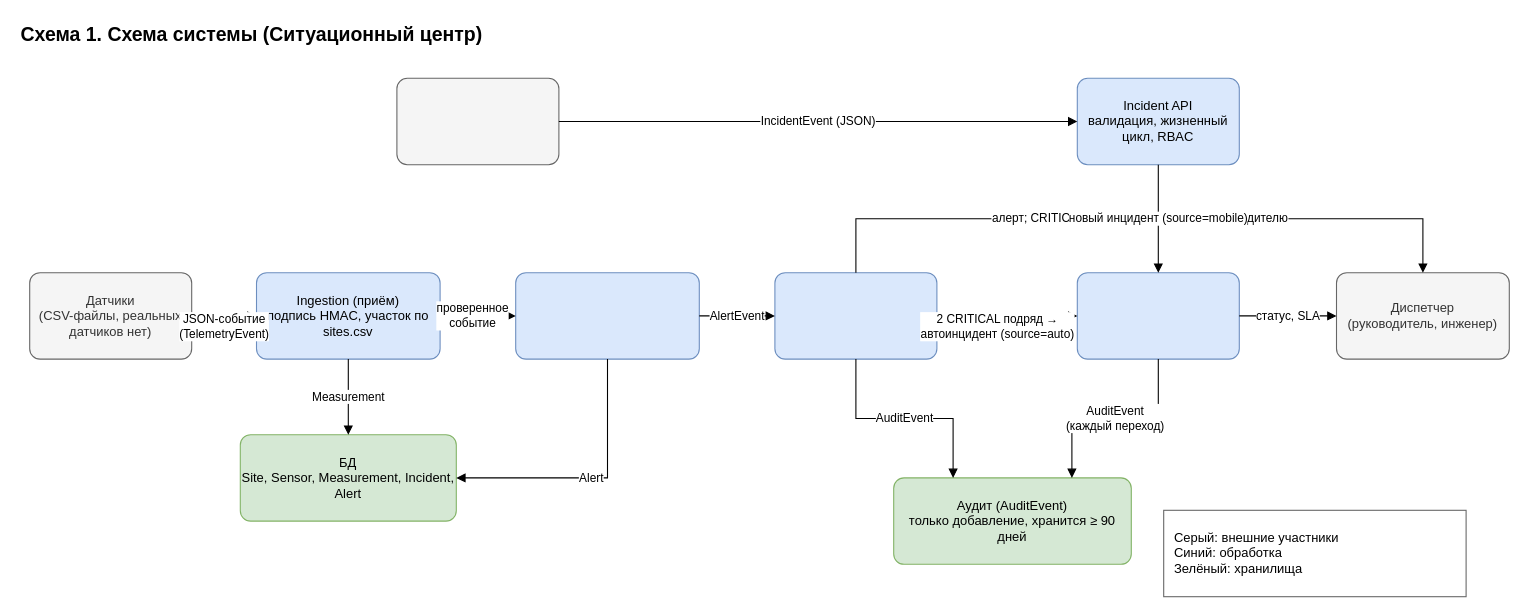
This 1528x616 diagram has some shape labels left out. Here are the shapes that lost their labels. From the top down, the box of each, then its label:
(396, 77, 559, 165): Мобильное приложение
(515, 272, 699, 359): Rules Engine severity, дедупликация, правила A-1…A-5
(774, 272, 937, 359): Alert WARNING / CRITICAL / STALE
(1076, 272, 1239, 359): Incident NEW → ASSIGNED → IN_PROGRESS → CLOSED
